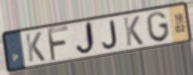F: (46, 25, 71, 63)
G: (145, 10, 171, 44)
J: (74, 20, 97, 57), (101, 19, 120, 51)
K: (24, 30, 47, 63), (122, 14, 145, 47)
